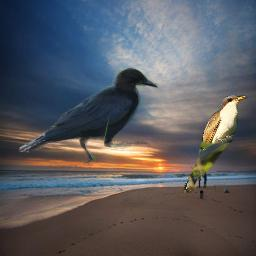Crow: (19, 67, 158, 165)
Cuckoo: (181, 93, 248, 195)
